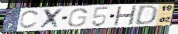5: (91, 6, 109, 28)
C: (18, 9, 41, 30)
D: (133, 5, 160, 26)
G: (66, 8, 88, 28)
H: (112, 6, 138, 26)
X: (38, 8, 65, 30)
